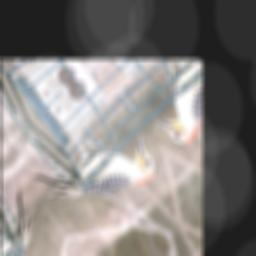Woodpecker: (30, 97, 166, 247)
